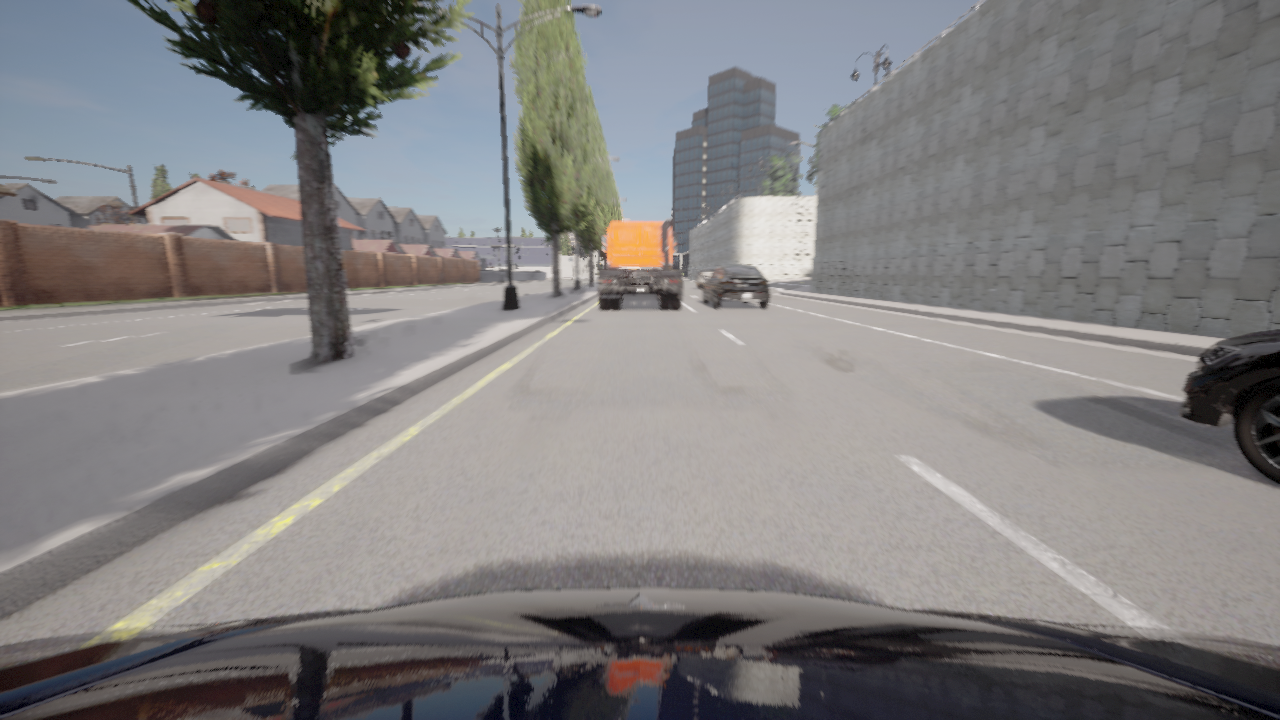cyclist: (0, 588, 1279, 719), (1180, 330, 1279, 485), (598, 219, 682, 309), (702, 265, 769, 308), (696, 266, 721, 288)
